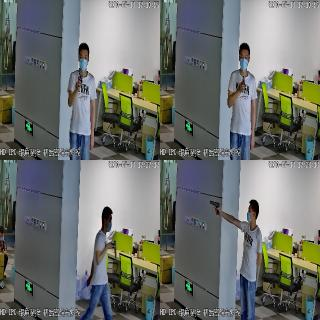gun: (107, 238, 117, 260), (208, 198, 220, 215), (76, 65, 83, 89), (240, 74, 246, 95)
